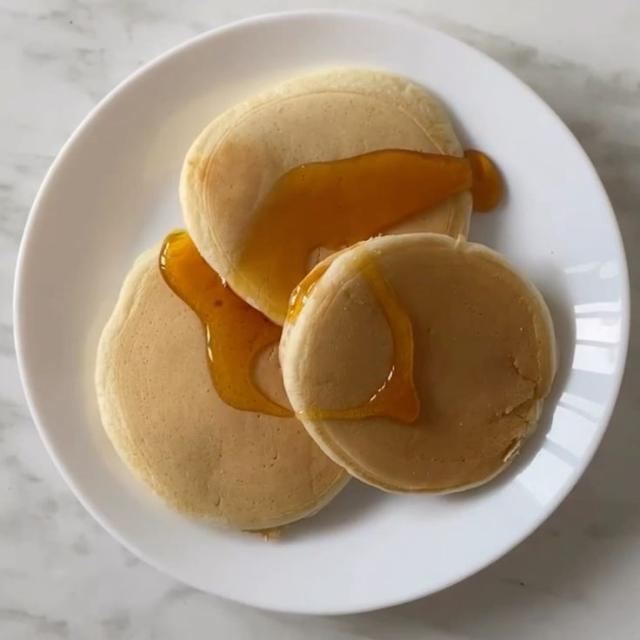pancake: (180, 70, 462, 323), (96, 248, 348, 530), (280, 234, 555, 492)
